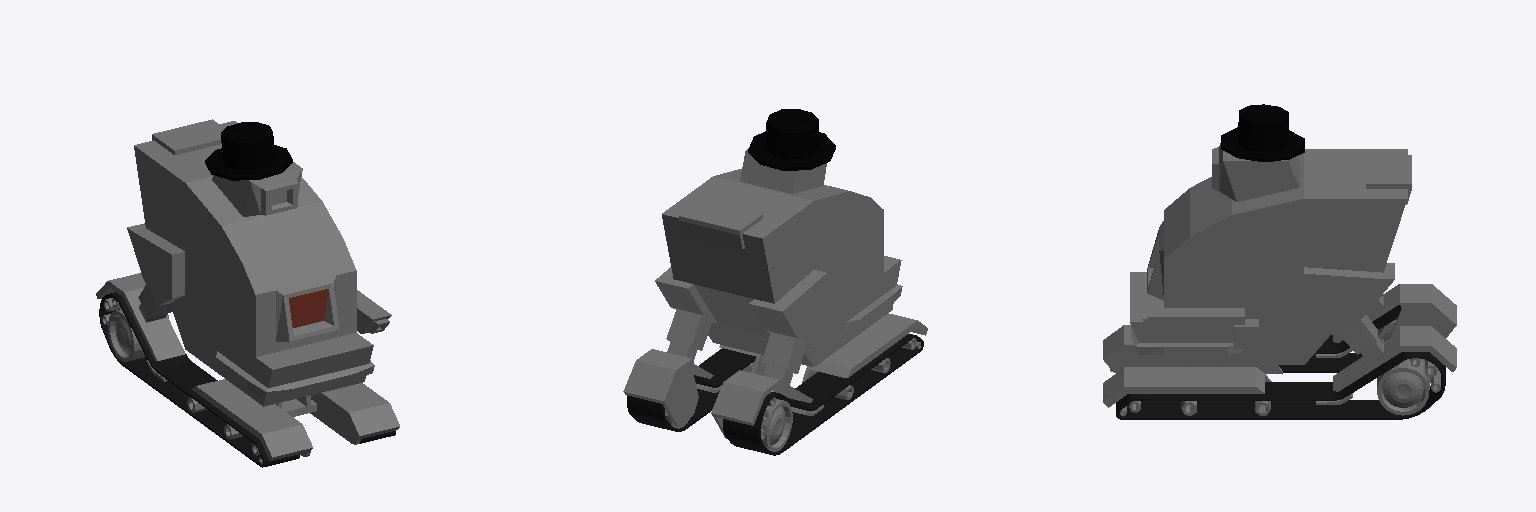
Rendered from Companion.obj.
3 renders of one model, left to right at view 1: azimuth 30°, elevation 25°; view 2: azimuth 150°, elevation 25°; view 3: azimuth 270°, elevation 25°, orthographic.
Visible parts, largest first — view 1: body, tread2 track, hat, tread2 largewheel; view 2: body, tread2 track, hat, tread1 track, tread2 largewheel; view 3: body, tread1 track, hat, tread1 largewheel, tread2 track.
Part boxes in pixels (left/top/right/bottom): body: left=96, top=119, right=399, bottom=460; tread2 track: left=99, top=292, right=299, bottom=467; hat: left=205, top=122, right=292, bottom=180; tread2 largewheel: left=108, top=309, right=145, bottom=361; body: left=623, top=148, right=927, bottom=438; tread2 track: left=723, top=334, right=923, bottom=455; hat: left=748, top=109, right=835, bottom=170; tread1 track: left=627, top=348, right=755, bottom=431; tread2 largewheel: left=761, top=399, right=792, bottom=451; body: left=1103, top=143, right=1456, bottom=407; tread1 track: left=1116, top=352, right=1445, bottom=419; hat: left=1221, top=104, right=1304, bottom=161; tread1 largewheel: left=1377, top=359, right=1429, bottom=415; tread2 track: left=1278, top=305, right=1400, bottom=372.
Size of the model in its own units: 1.47 by 2.56 by 3.03.